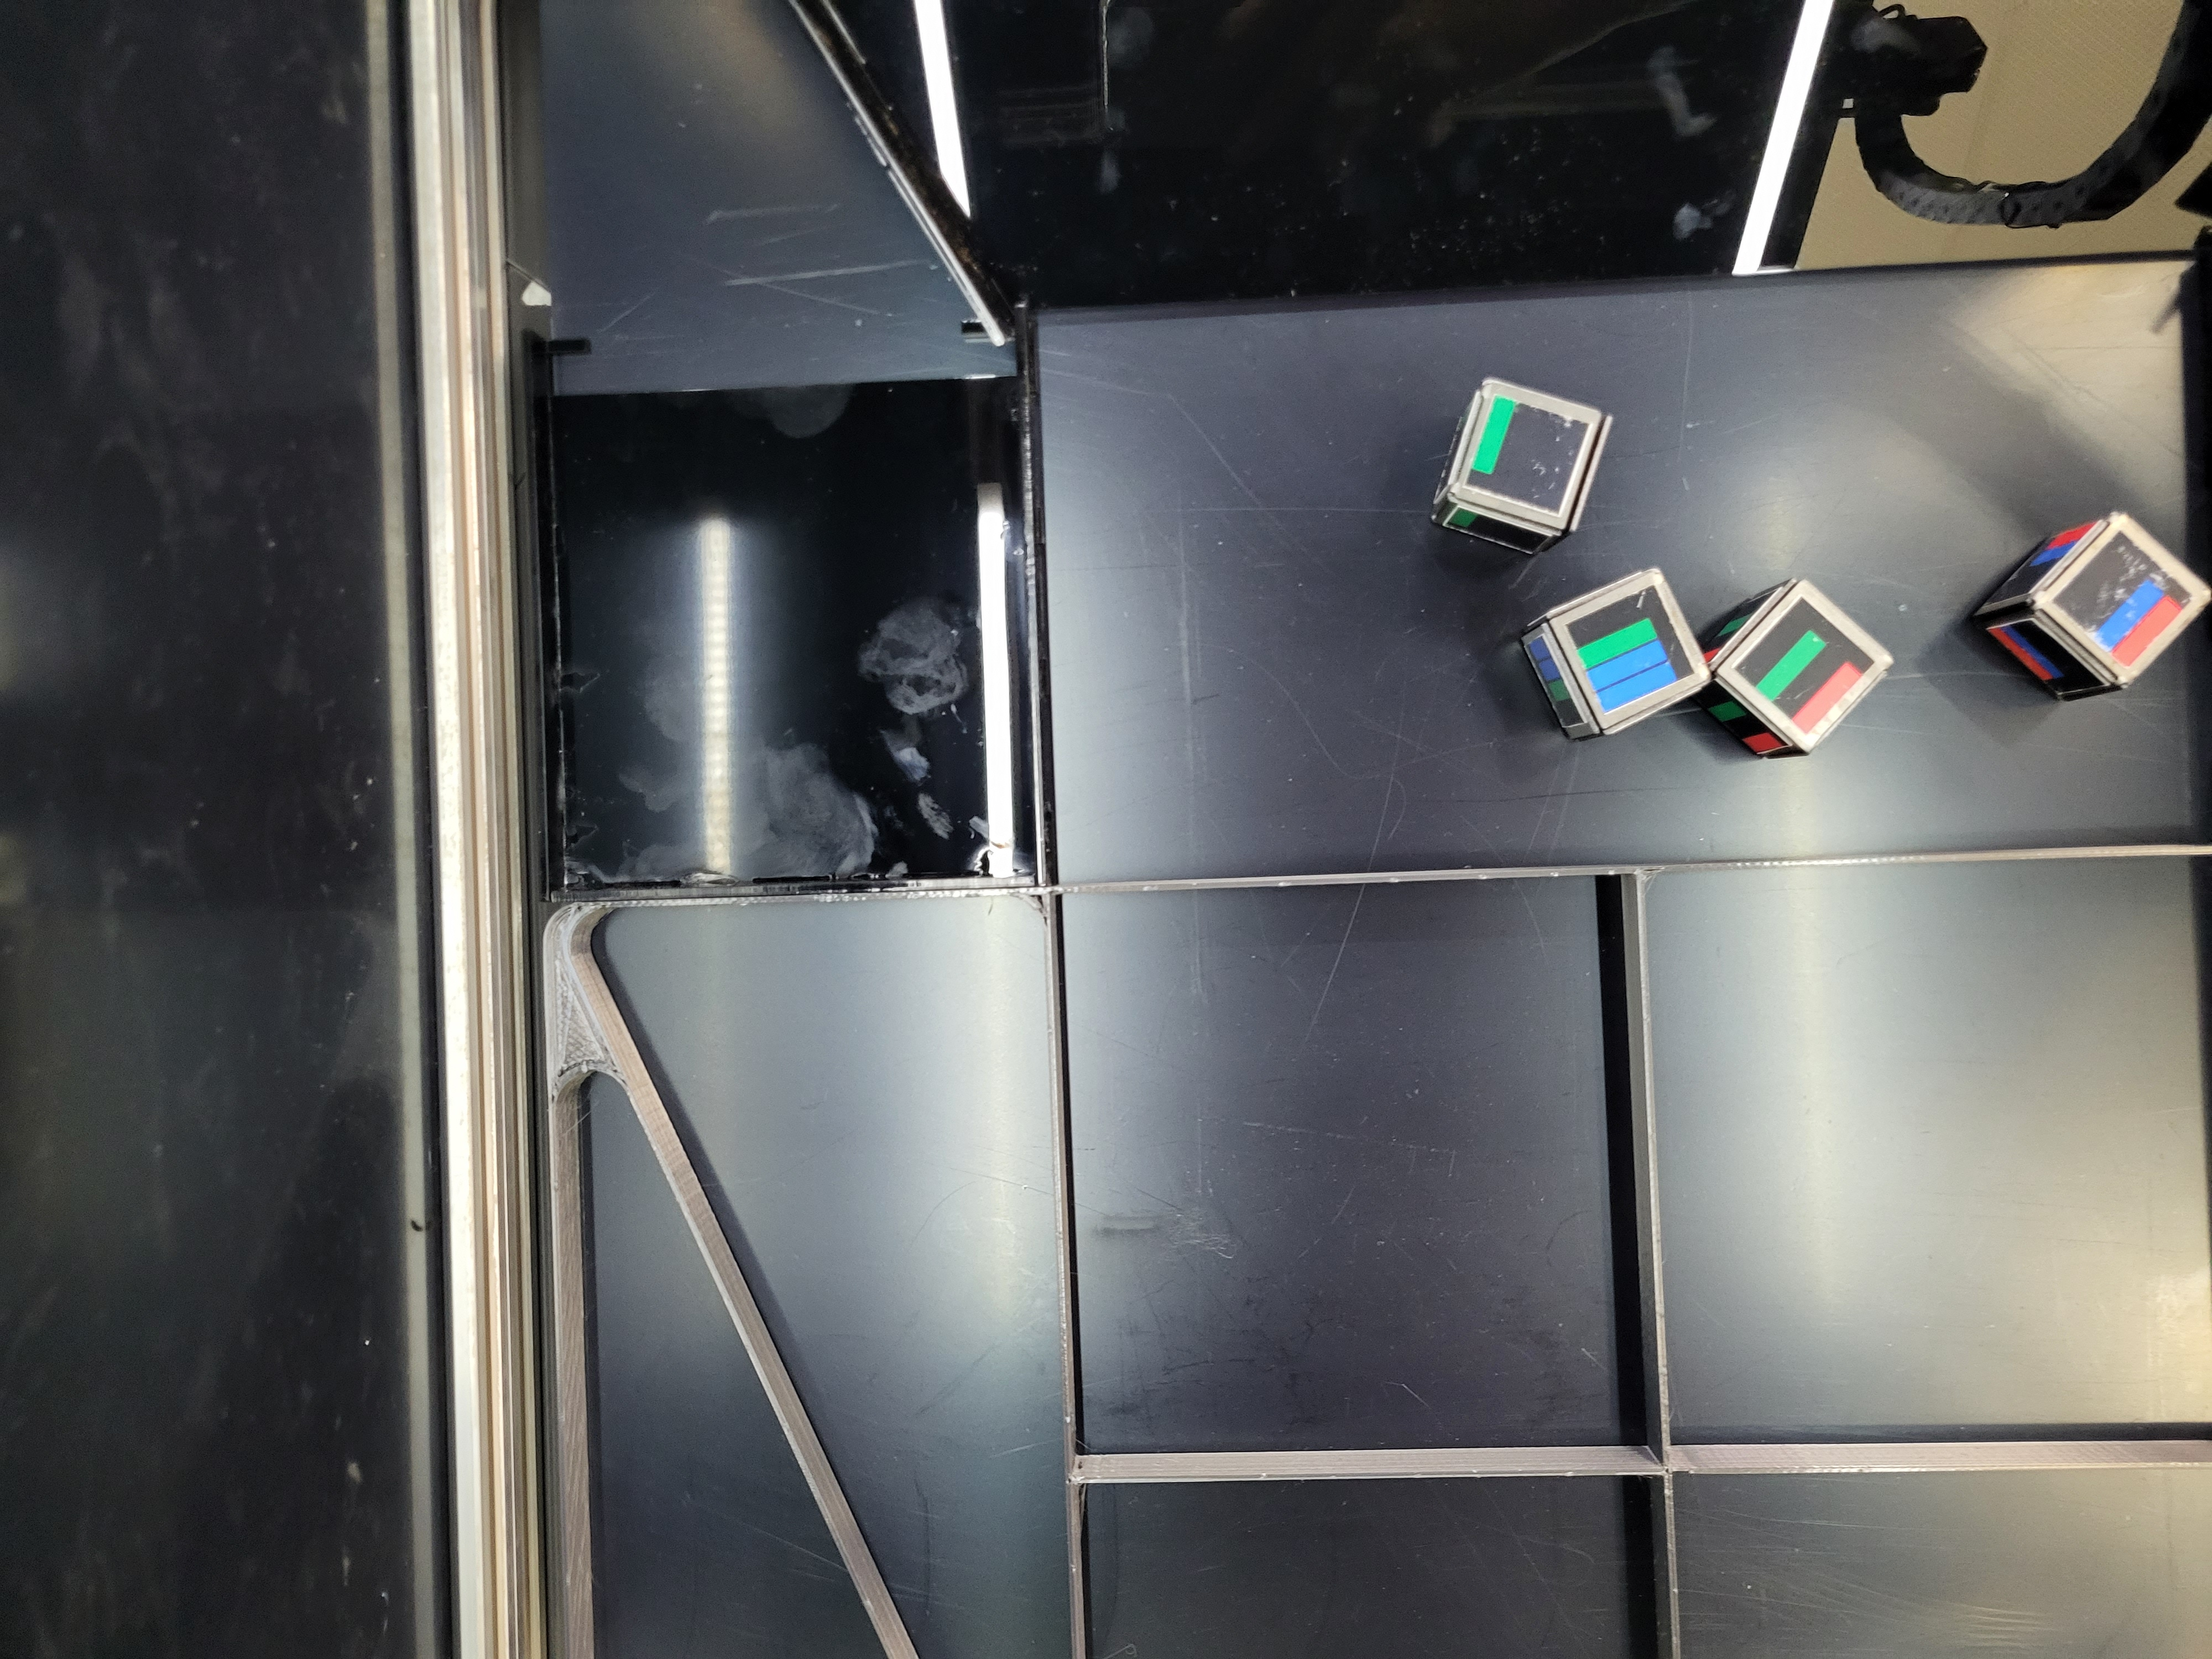Cube: (2006, 483, 2212, 711), (1522, 547, 1724, 769), (1414, 356, 1623, 551), (1710, 561, 1902, 769)
